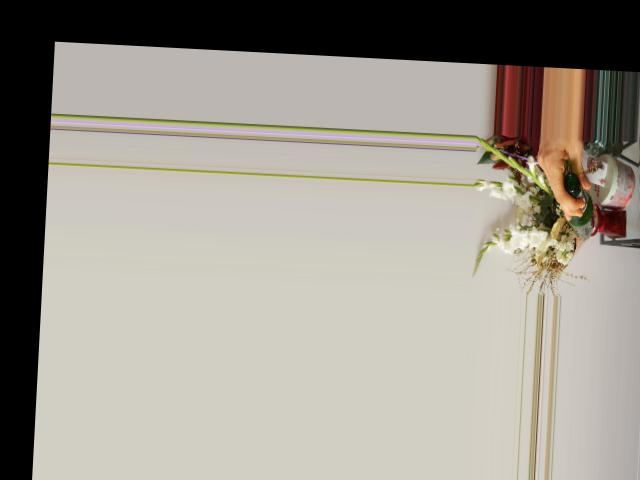beer: (561, 172, 597, 238)
